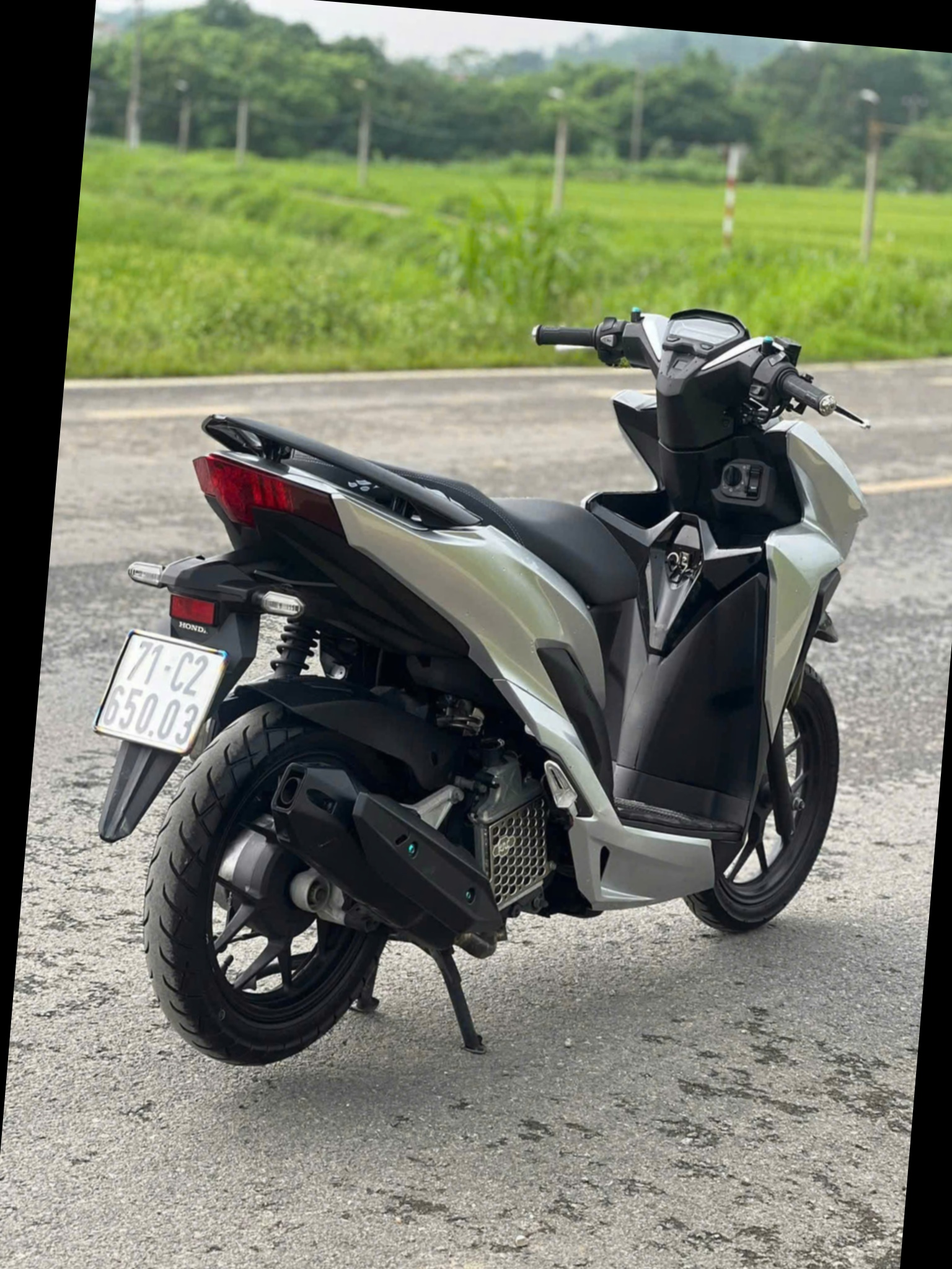Bien-so: (53, 660, 193, 781)
